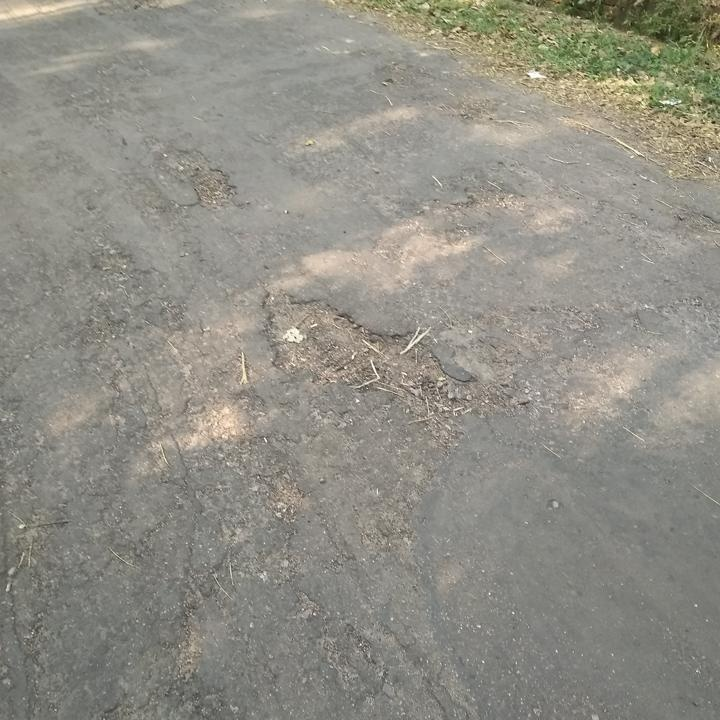pothole: (259, 282, 495, 415), (160, 145, 242, 210), (672, 208, 720, 234)
